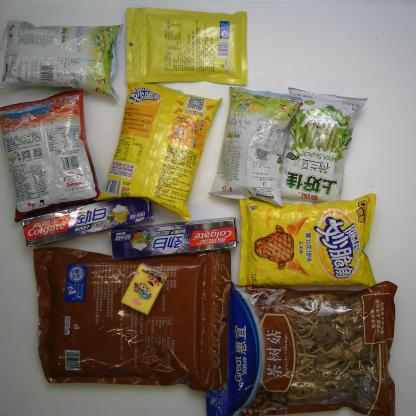Dried Food: (29, 238, 236, 389), (204, 280, 400, 414)
Dried Fruit: (123, 4, 252, 91)
Personal Hygiene: (20, 196, 156, 248), (108, 218, 239, 260)
Puffed Food: (94, 80, 227, 224), (236, 192, 383, 296), (0, 90, 102, 218), (208, 86, 302, 209), (279, 86, 372, 204), (2, 19, 126, 102)
Tissue: (120, 263, 168, 316)
